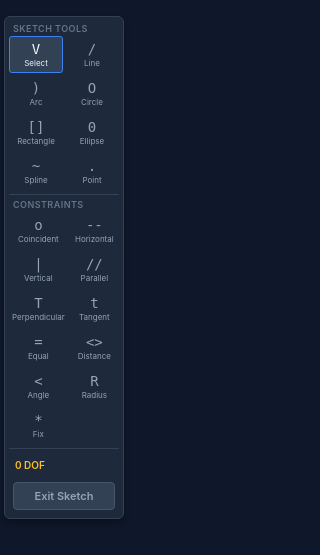
Test: SketchToolbar › should show confirm dialog when exit is clicked with elements
The image size is (320, 555).
Click the button "Exit Sketch": (64, 496) x1=13 y1=482 x2=115 y2=510
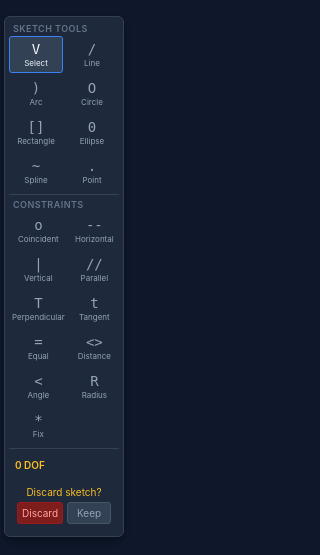
Now the text "Discard sketch?" is shown, box x1=26 y1=486 x2=102 y2=498
Now the button "Discard" is shown, box x1=17 y1=502 x2=63 y2=524
Now the button "Keep" is shown, box x1=67 y1=502 x2=111 y2=524
